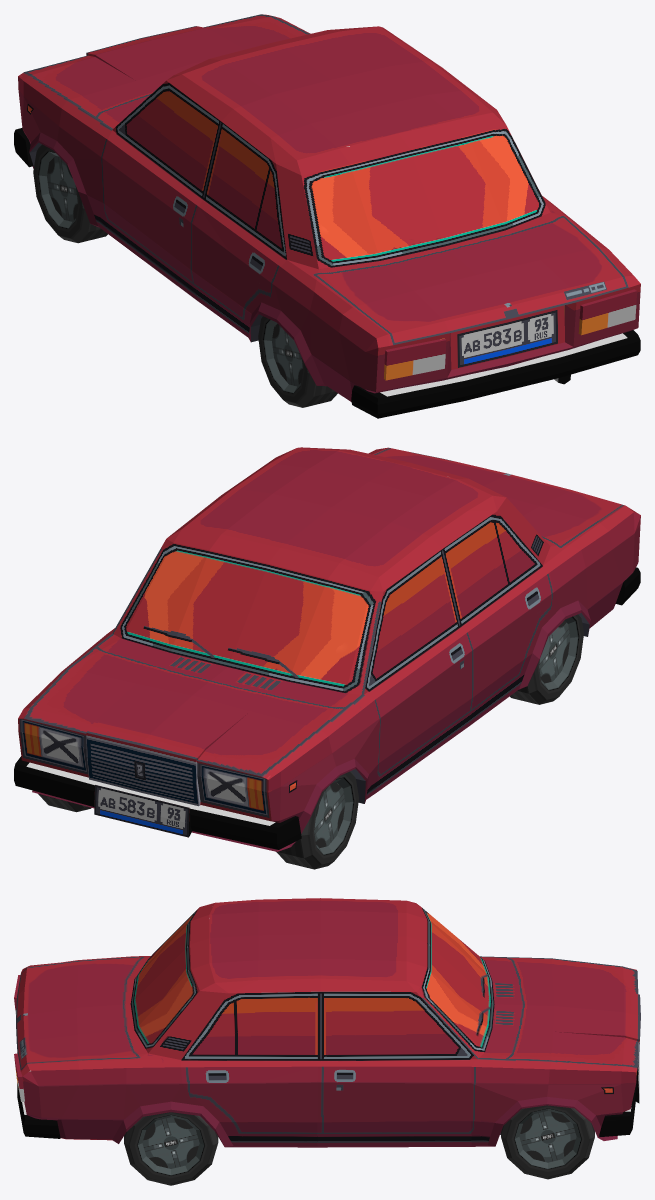
File: car.glb
The picture shows the model from 3 angles, top to bottom: view 1: azimuth 30°, elevation 25°; view 2: azimuth 150°, elevation 25°; view 3: azimuth 270°, elevation 25°; orthographic projection. The views are drawn at different scales.
Size of the model in its own units: 4.15 by 3.22 by 9.27.
Materials: 5 (3 with a texture image).
